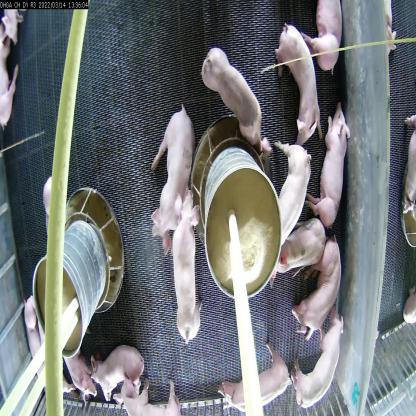Pig: (195, 43, 269, 146), (274, 13, 325, 146), (311, 93, 358, 228), (287, 244, 350, 344), (146, 104, 188, 251), (206, 342, 292, 412), (164, 193, 199, 339), (270, 143, 312, 248), (288, 317, 339, 402), (17, 304, 60, 396), (300, 0, 343, 73), (112, 375, 182, 415), (276, 215, 324, 273), (90, 348, 146, 397), (60, 345, 104, 405)
